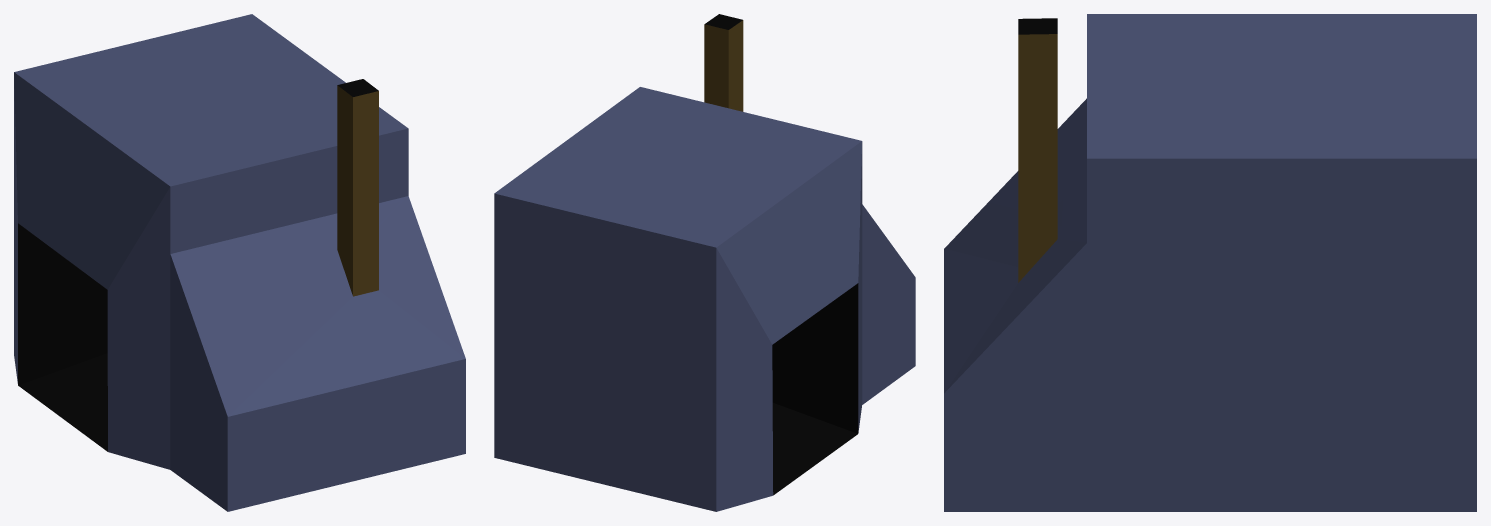
File: factory_b.fbx
3 renders of one model, left to right at view 1: azimuth 30°, elevation 25°; view 2: azimuth 150°, elevation 25°; view 3: azimuth 270°, elevation 25°, orthographic. The views are drawn at different scales.
Parts seen in each view (by area): view 1: Cube.001; view 2: Cube.001; view 3: Cube.001.
Part boxes in pixels (x1=…): Cube.001: x1=14, y1=14, x2=465, y2=511; Cube.001: x1=494, y1=14, x2=915, y2=511; Cube.001: x1=944, y1=14, x2=1476, y2=511.
Bounding box in the file's own units: 197 × 251 × 273.
Materials: 1 (1 with a texture image).
